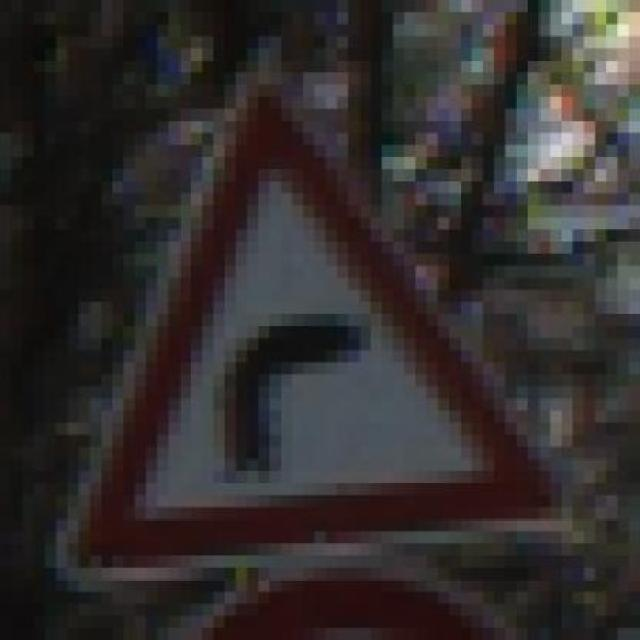Dangerous Rright Curve Ahead: (33, 72, 584, 592)
